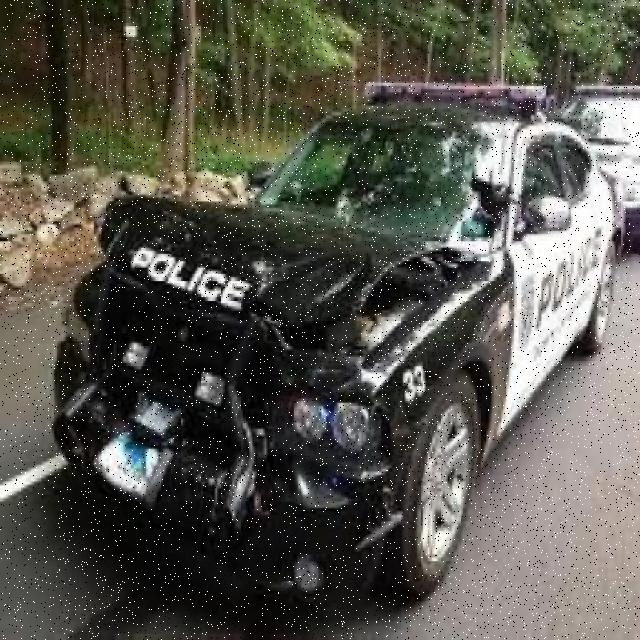damage: (51, 177, 518, 593)
